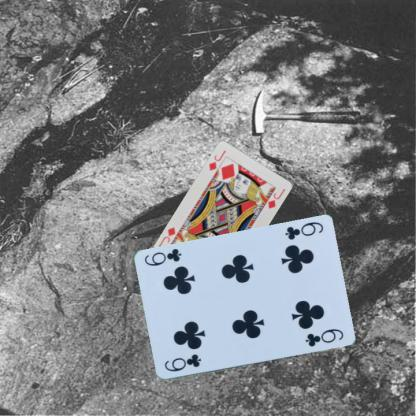6c: (282, 219, 324, 242), (161, 352, 202, 374)
Jd: (206, 148, 227, 172)
